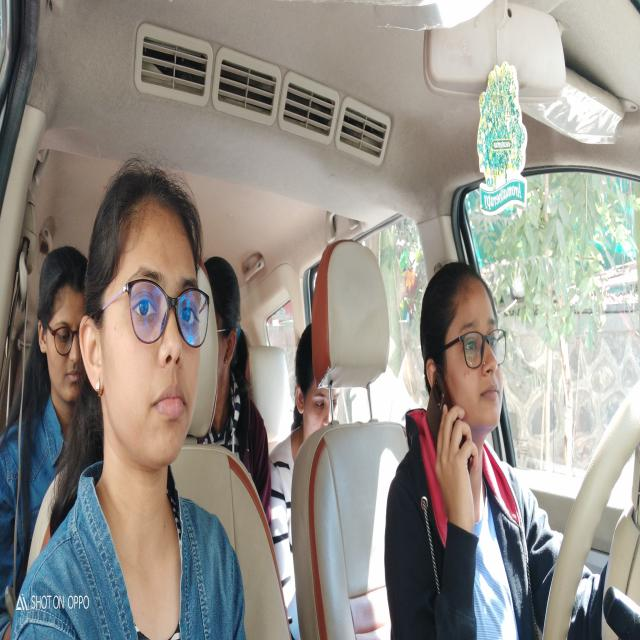mobile: (428, 355, 476, 497)
person: (78, 156, 213, 482), (424, 252, 514, 444), (36, 243, 97, 437), (201, 234, 250, 427), (292, 319, 352, 468)
